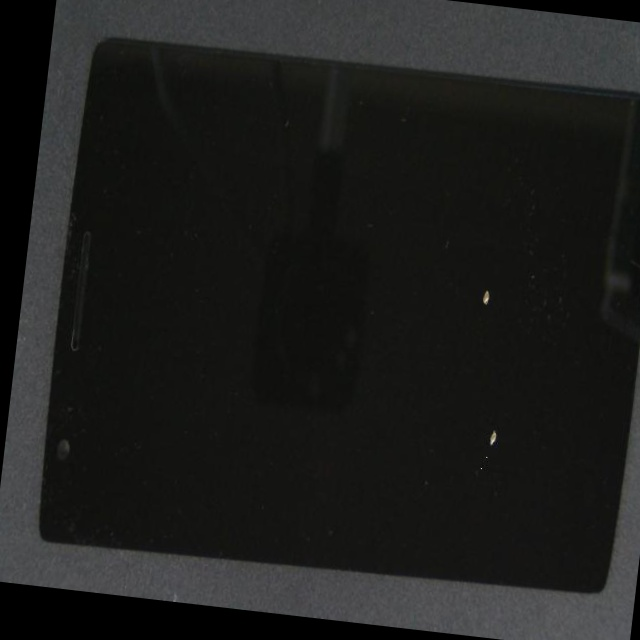stain: (215, 168, 640, 640), (252, 82, 640, 431)
